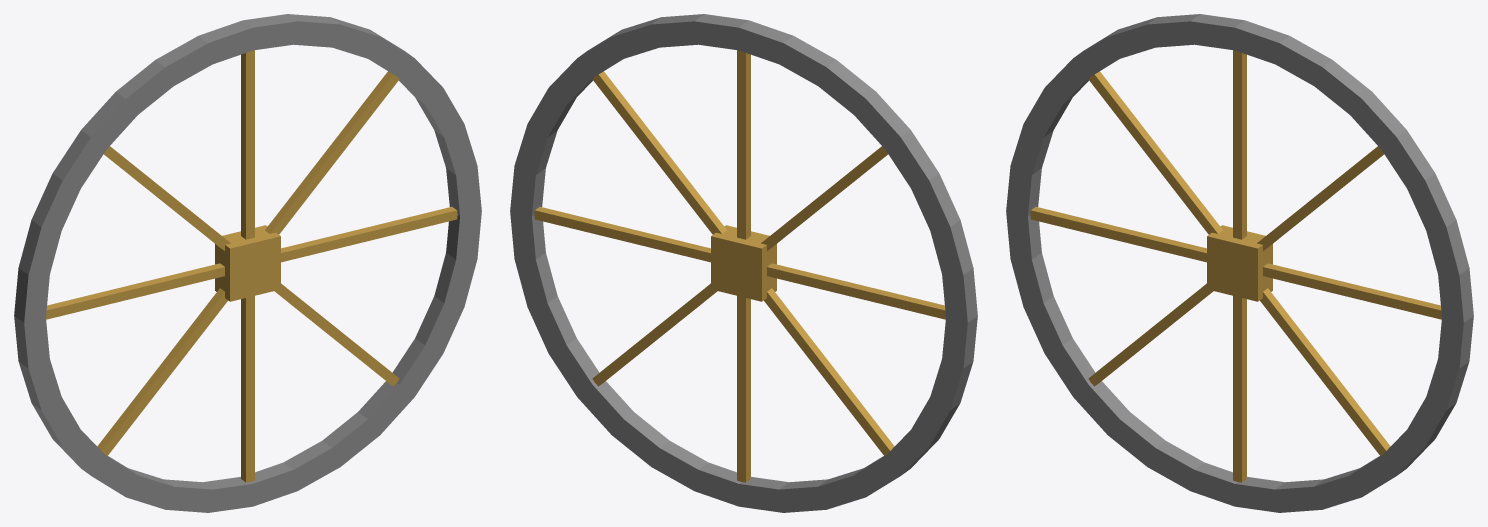
Rendered from ferris_wheel.obj.
3 renders of one model, left to right at view 1: azimuth 30°, elevation 25°; view 2: azimuth 150°, elevation 25°; view 3: azimuth 330°, elevation 25°, orthographic.
Size of the model in its own units: 6.3 by 6.3 by 0.36.
